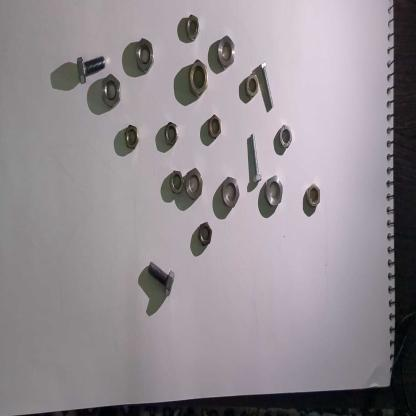Bolts: (148, 259, 178, 299), (76, 50, 106, 88), (257, 60, 276, 111), (248, 130, 262, 188)
NUTS: (188, 56, 209, 101), (136, 35, 156, 75), (216, 34, 237, 71), (185, 166, 206, 202), (102, 72, 121, 110), (265, 173, 283, 210), (223, 176, 239, 211), (167, 167, 185, 196), (122, 122, 139, 152), (276, 122, 294, 150), (306, 182, 324, 210), (208, 112, 224, 142), (197, 219, 212, 249), (164, 120, 179, 149), (186, 12, 200, 43), (245, 74, 260, 100)
